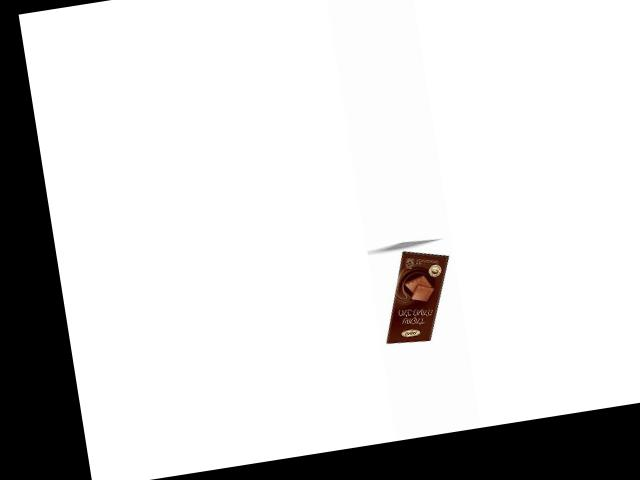chocolate: (371, 239, 464, 349)
